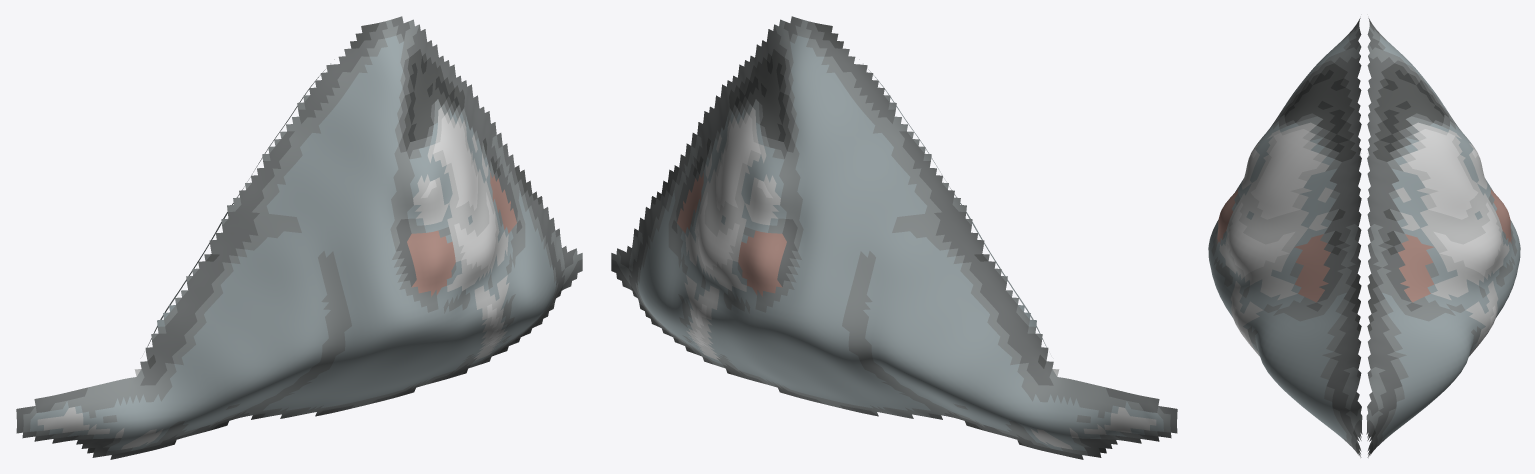
File: danachungi.glb
The picture shows the model from 3 angles, left to right: view 1: azimuth 30°, elevation 25°; view 2: azimuth 150°, elevation 25°; view 3: azimuth 270°, elevation 25°; orthographic projection. The views are drawn at different scales.
Parts seen in each view (by area): view 1: danachungi; view 2: danachungi; view 3: danachungi.
Part boxes in pixels (x1,y1,x2,y2): danachungi: (16, 16, 582, 459); danachungi: (611, 16, 1177, 459); danachungi: (1208, 18, 1520, 457).
Size of the model in its own units: 588 by 376 by 272.
